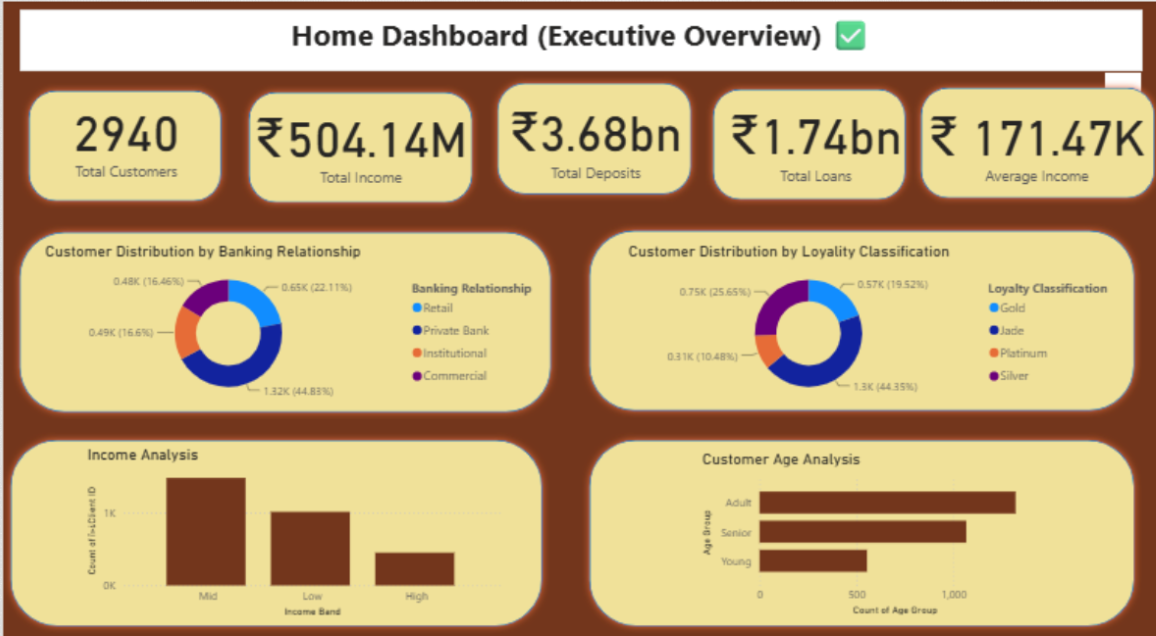

Layout of this report page (visuals, bound fields, positions):
{"tool":"powerbi","page":{"name":"Home Dashboard","canvas":[1280,720],"ordinal":0},"visuals":[{"type":"textbox","box":[19.1,12.3,1240.7,68.2],"z":0},{"type":"shape","box":[1005.8,90.6,274.4,138.6],"z":1000},{"type":"shape","box":[776.7,91.9,229.2,138.6],"z":2000},{"type":"shape","box":[526.9,91.9,229.2,138.6],"z":3000},{"type":"shape","box":[263.5,94.7,263.5,138.6],"z":4000},{"type":"card","fields":{"Values":["DAX_Mesures.Total Customers"]},"box":[214.1,570.8,214.1,149.6],"z":5000},{"type":"card","fields":{"Values":["DAX_Mesures.Total Income"]},"box":[242.9,90.6,304.6,138.6],"z":6000},{"type":"card","fields":{"Values":["DAX_Mesures.Total Deposits"]},"box":[542,81,214.1,149.6],"z":7000},{"type":"card","fields":{"Values":["DAX_Mesures.Total Loans"]},"box":[791.8,82.3,214.1,149.6],"z":8000},{"type":"card","fields":{"Values":["DAX_Mesures.Average Income"]},"box":[1012.7,89.2,259.3,134.5],"z":9000},{"type":"shape","box":[9.6,249.7,603.8,215.4],"z":10000},{"type":"shape","box":[640.8,248.4,618.9,215.4],"z":11000},{"type":"shape","box":[19.2,480.3,603.8,222.3],"z":12000},{"type":"shape","box":[640.8,480.3,618.9,222.3],"z":13000},{"type":"donutChart","title":"Customer Distribution by Banking Relationship","fields":{"Y":["CountNonNull(banking_case customer.ï»¿Client ID)"],"Category":["Banking Relationship.Banking Relationship"]},"box":[41.2,267.6,559.9,182.5],"z":14000},{"type":"shape","box":[19.2,93.3,229.2,138.6],"z":15000},{"type":"card","fields":{"Values":["DAX_Mesures.Total Customers"]},"box":[42.5,90.6,185.2,124.9],"z":16000},{"type":"donutChart","title":"Customer Distribution by Loyality Classification","fields":{"Y":["CountNonNull(banking_case customer.ï»¿Client ID)"],"Series":["banking_case customer.Loyalty Classification"]},"box":[687.5,267.6,551.6,182.5],"z":17000},{"type":"clusteredColumnChart","title":"Income Analysis","fields":{"Category":["banking_case customer.Income Band"],"Y":["CountNonNull(banking_case customer.ï»¿Client ID)"]},"box":[87.8,494,466.6,194.9],"z":18000},{"type":"clusteredBarChart","title":"Customer Age Analysis","fields":{"Y":["CountNonNull(banking_case customer.Age Group)"],"Category":["banking_case customer.Age Group"]},"box":[768.4,498.1,388.3,188],"z":19000}]}

Visuals, with their boxes in screenshot pixels (x1, y1, x2, y2), scaled from the page's 1280x720 canvas onto the 1156x636 screenshot:
textbox: detection(17, 11, 1138, 71)
shape: detection(908, 80, 1155, 202)
shape: detection(701, 81, 908, 204)
shape: detection(476, 81, 683, 204)
shape: detection(238, 84, 476, 206)
card - DAX_Mesures.Total Customers: detection(193, 504, 387, 635)
card - DAX_Mesures.Total Income: detection(219, 80, 494, 202)
card - DAX_Mesures.Total Deposits: detection(489, 72, 683, 204)
card - DAX_Mesures.Total Loans: detection(715, 73, 908, 205)
card - DAX_Mesures.Average Income: detection(915, 79, 1149, 198)
shape: detection(9, 221, 554, 411)
shape: detection(579, 219, 1138, 410)
shape: detection(17, 424, 563, 621)
shape: detection(579, 424, 1138, 621)
"Customer Distribution by Banking Relationship" donutChart: detection(37, 236, 543, 398)
shape: detection(17, 82, 224, 205)
card - DAX_Mesures.Total Customers: detection(38, 80, 206, 190)
"Customer Distribution by Loyality Classification" donutChart: detection(621, 236, 1119, 398)
"Income Analysis" clusteredColumnChart: detection(79, 436, 501, 609)
"Customer Age Analysis" clusteredBarChart: detection(694, 440, 1045, 606)
